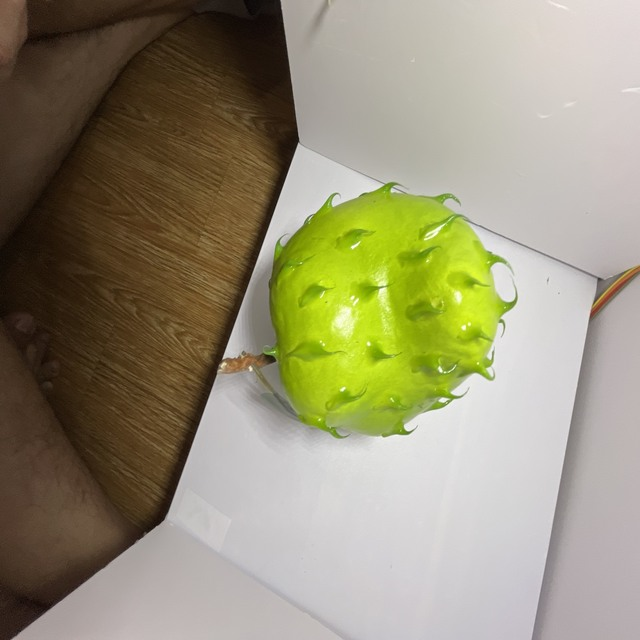Man cau: (253, 174, 525, 447)
